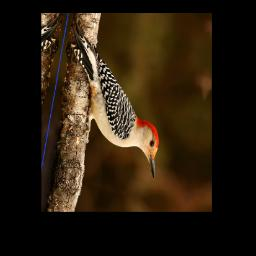Woodpecker: (49, 17, 177, 179)
